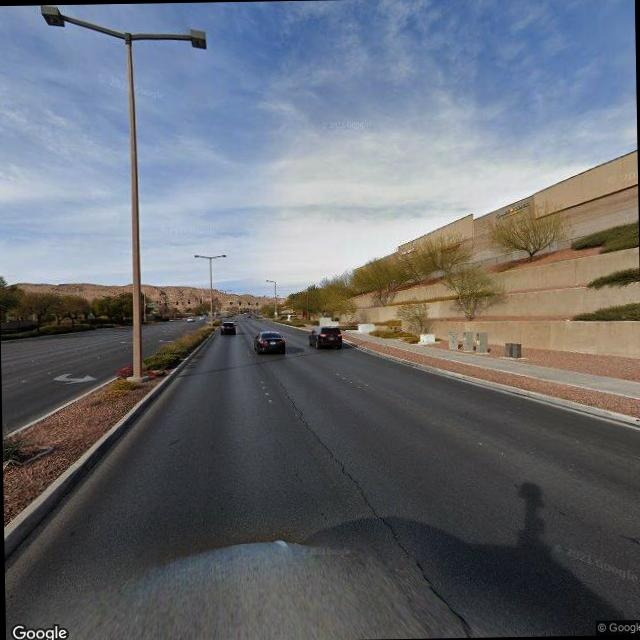crack: (276, 378, 482, 638)
